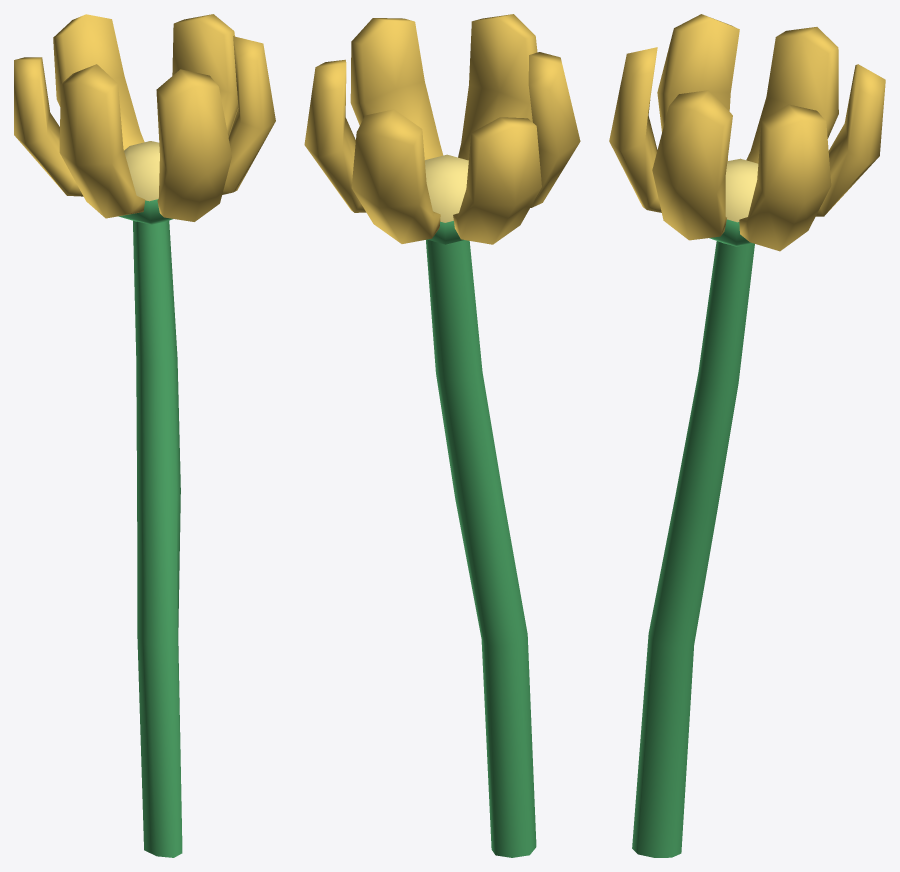
File: Flower_B_01_LOD2.gltf
3 renders of one model, left to right at view 1: azimuth 30°, elevation 25°; view 2: azimuth 150°, elevation 25°; view 3: azimuth 270°, elevation 25°, orthographic. The views are drawn at different scales.
Visible parts, largest first — view 1: Flower_B_01_LOD2_Plane.039; view 2: Flower_B_01_LOD2_Plane.039; view 3: Flower_B_01_LOD2_Plane.039.
Boxes of the visible parts, <box> form: Flower_B_01_LOD2_Plane.039: <box>14,14,275,857</box>; Flower_B_01_LOD2_Plane.039: <box>304,14,580,857</box>; Flower_B_01_LOD2_Plane.039: <box>609,14,885,857</box>.
Bounding box in the file's own units: 1.66 × 5.82 × 1.8.
1 material, 1 textured.
